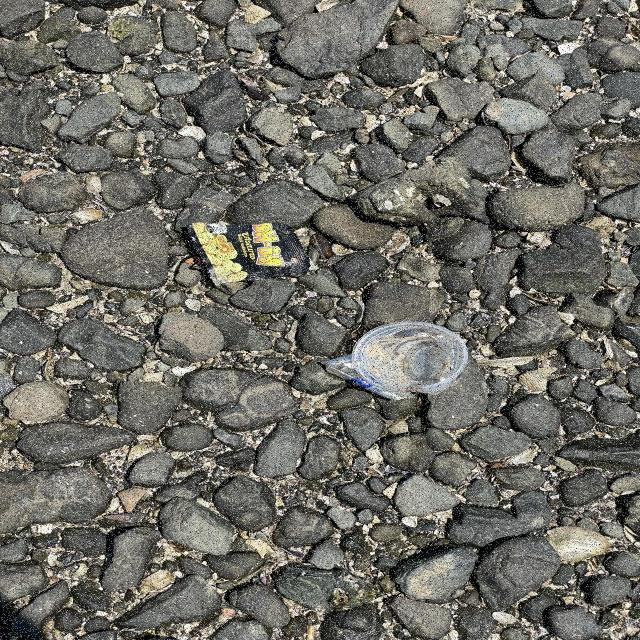plastic_waste: (352, 321, 471, 397), (186, 222, 320, 289)
